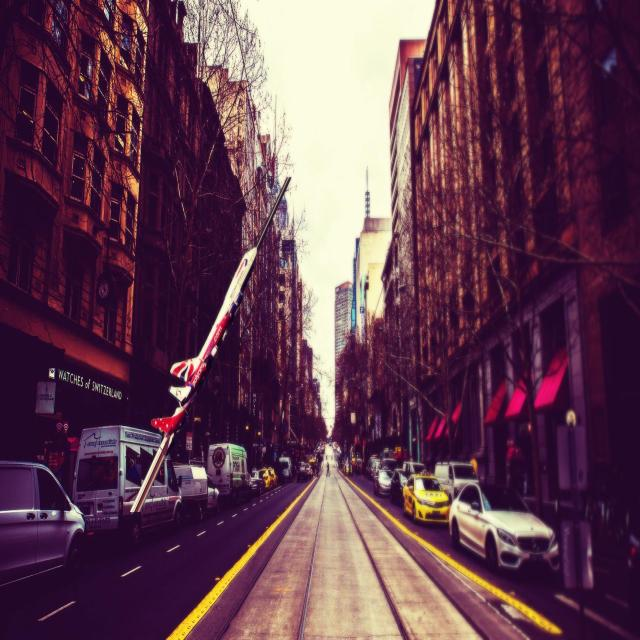airplane: (124, 172, 292, 526)
